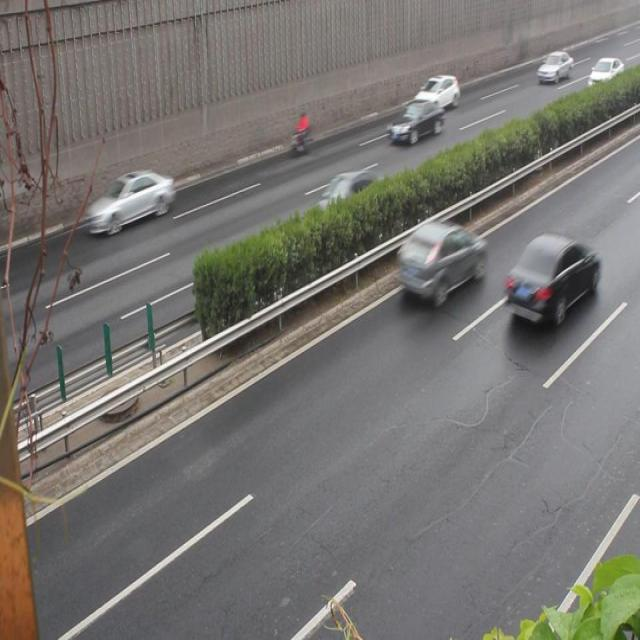car: (505, 230, 599, 326), (396, 218, 487, 302), (90, 170, 174, 233), (306, 173, 386, 234), (387, 98, 443, 144), (414, 75, 459, 111), (536, 51, 572, 84)
